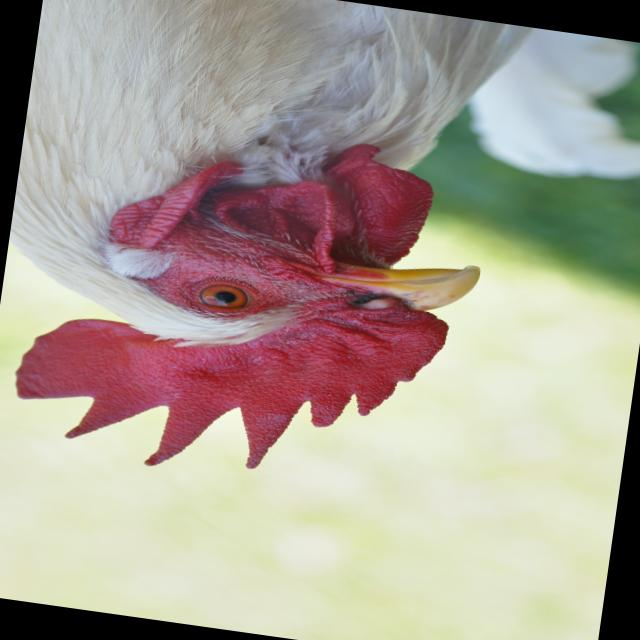Healthy: (0, 0, 538, 509)
